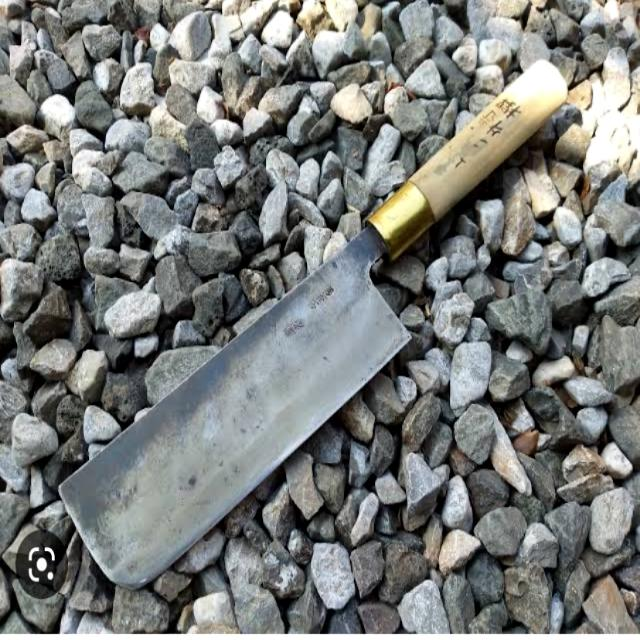knife: (45, 47, 582, 610)
